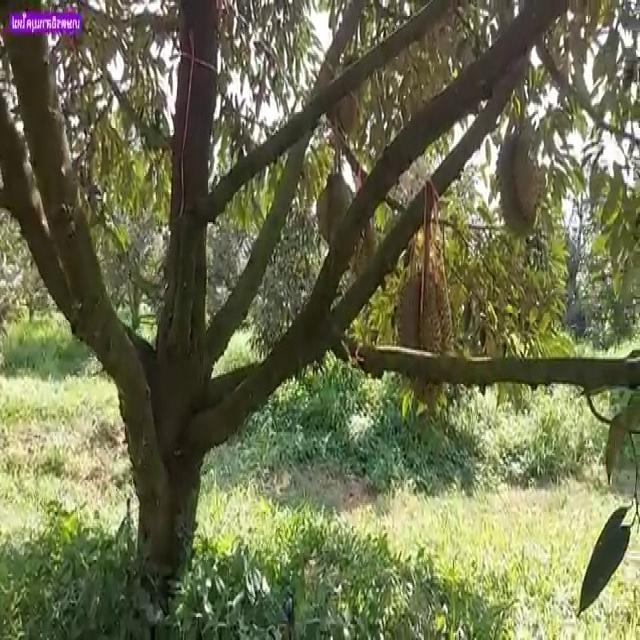durian: (394, 260, 457, 417), (494, 124, 546, 244), (314, 169, 362, 262)
